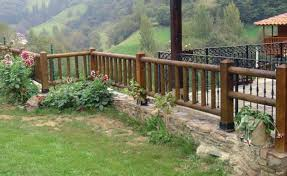Arbol: (42, 76, 110, 107), (1, 52, 36, 105)
Poste: (166, 1, 187, 92)
Valla: (141, 57, 280, 131), (38, 51, 140, 90)
